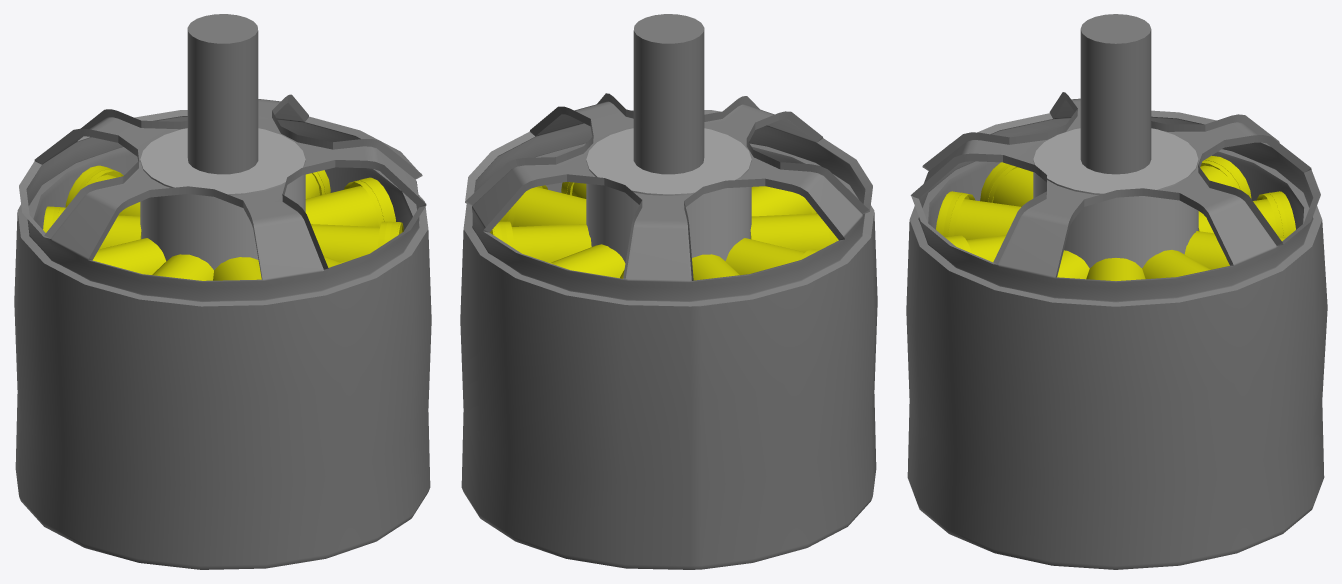
Rendered from motor_type_1.fbx.
3 views of the same model, side by side, from view 1: azimuth 30°, elevation 25°; view 2: azimuth 150°, elevation 25°; view 3: azimuth 270°, elevation 25° (orthographic).
Visible parts, largest first — view 1: pCylinder10, pCylinder11, coil_7_6 (×7), coil; view 2: pCylinder10, pCylinder11, coil_7_6 (×6), coil; view 3: pCylinder10, pCylinder11, coil_7_6 (×9).
Boxes of the visible parts, x1=… form: pCylinder10: x1=14, y1=14, x2=431, y2=569; pCylinder11: x1=140, y1=128, x2=305, y2=269; coil_7_6 (×7): x1=43, y1=165, x2=403, y2=280; coil: x1=92, y1=238, x2=166, y2=274; pCylinder10: x1=460, y1=14, x2=877, y2=569; pCylinder11: x1=586, y1=128, x2=751, y2=262; coil_7_6 (×6): x1=490, y1=185, x2=838, y2=280; coil: x1=725, y1=238, x2=819, y2=274; pCylinder10: x1=906, y1=14, x2=1327, y2=569; pCylinder11: x1=1033, y1=128, x2=1198, y2=268; coil_7_6 (×9): x1=936, y1=155, x2=1295, y2=280.
Size of the model in its own units: 2.54 by 3.03 by 2.55.
